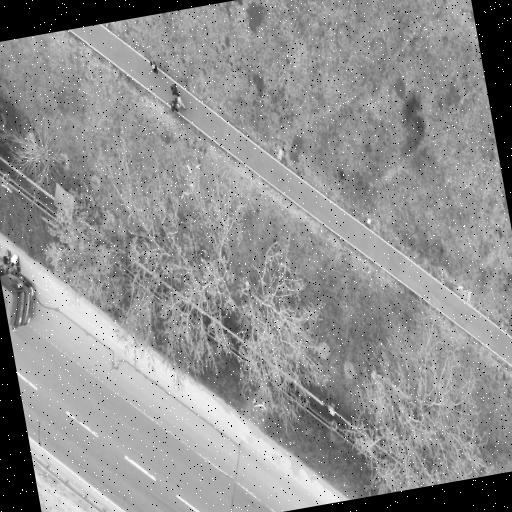person: (171, 84, 185, 108), (170, 99, 179, 112), (150, 61, 159, 74), (176, 95, 185, 108), (10, 253, 18, 265), (171, 84, 178, 95)
truck: (0, 257, 35, 330)
